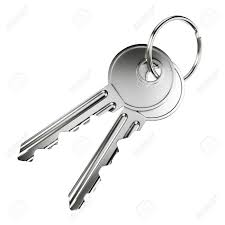key: (65, 53, 185, 210), (16, 43, 173, 162)
